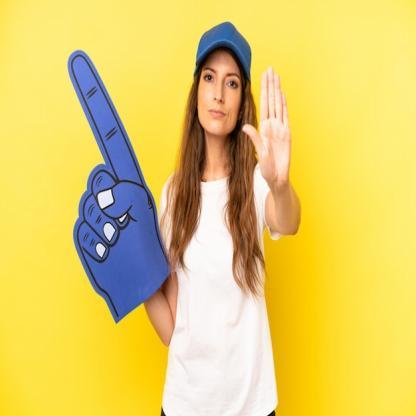stop: (242, 64, 292, 189)
